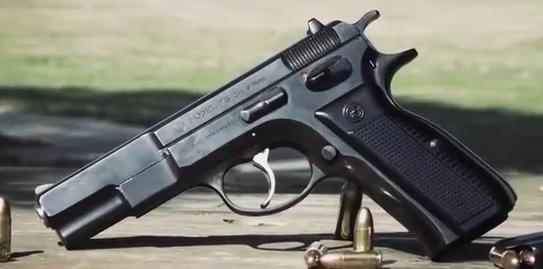gun: (1, 1, 543, 269)
